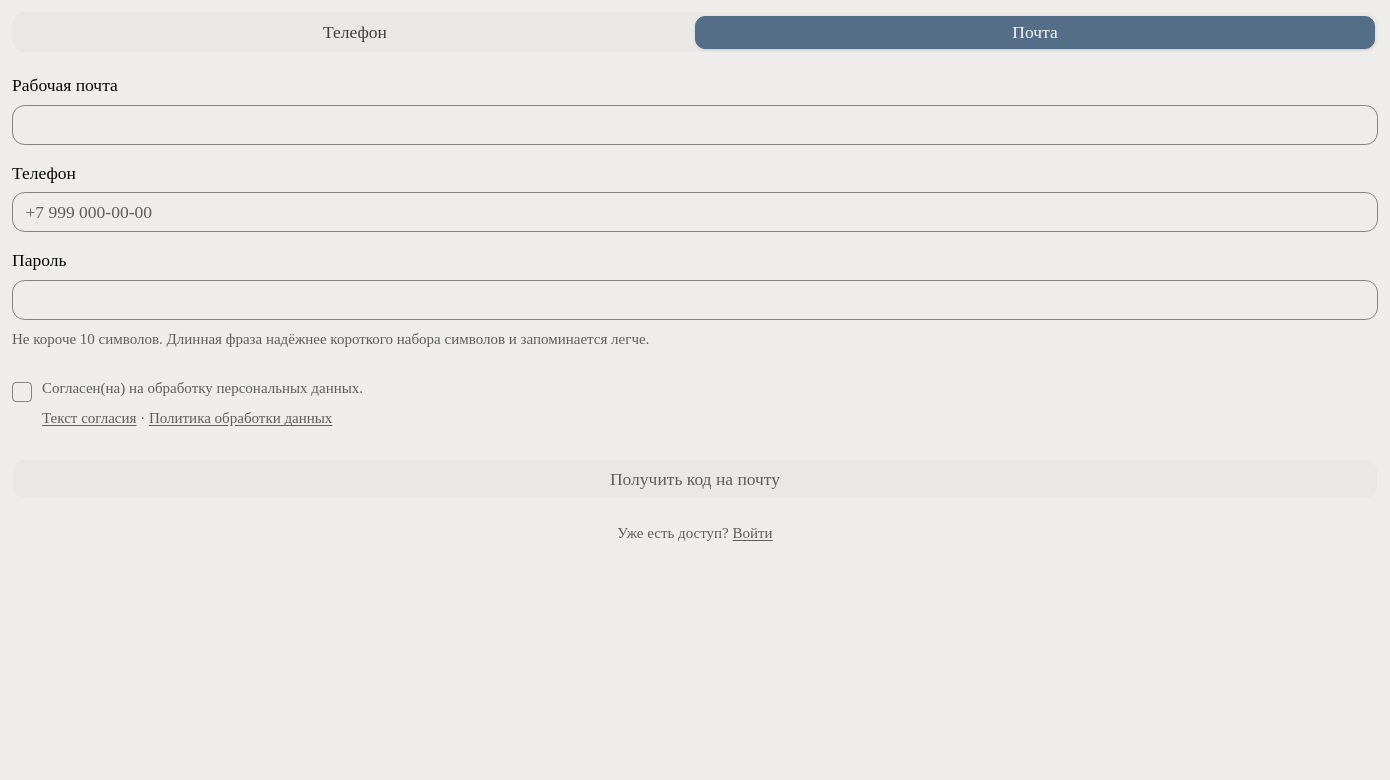
Scenario: вкладка «Почта» — прежняя регистрация по почте › без согласия код не запрашивается — подсвечивается галочка
Type "hr@example.com" into the field labelled "Рабочая почта".
click(695, 124); type("hr@example.com")  # box [12,104,1378,144]
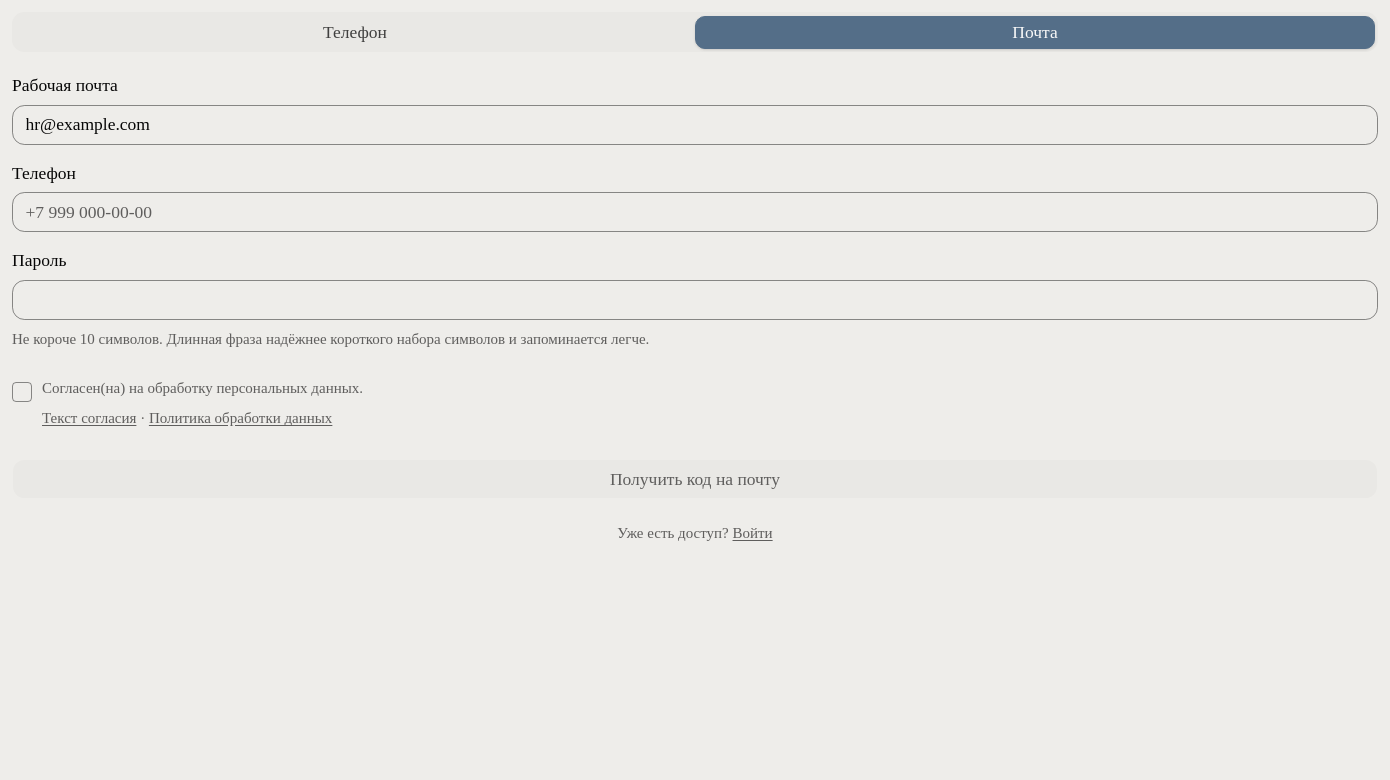
Type "+7 900 123-45-67" into the field labelled "Телефон".
click(695, 212); type("+7 900 123-45-67")  # box [12,192,1378,232]
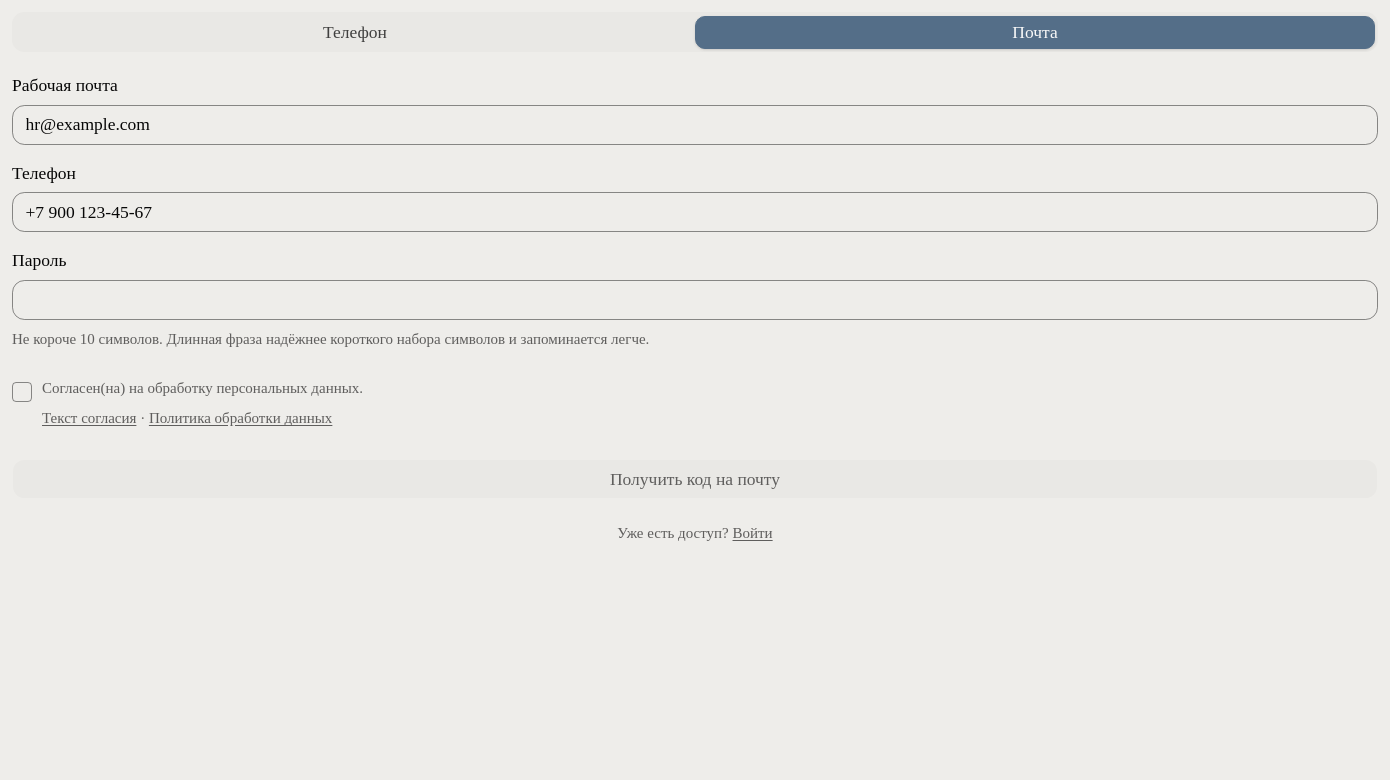
Type "длинный-пароль-1" into the password field labelled "Пароль".
click(695, 300); type("длинный-пароль-1")  # box [12,280,1378,320]
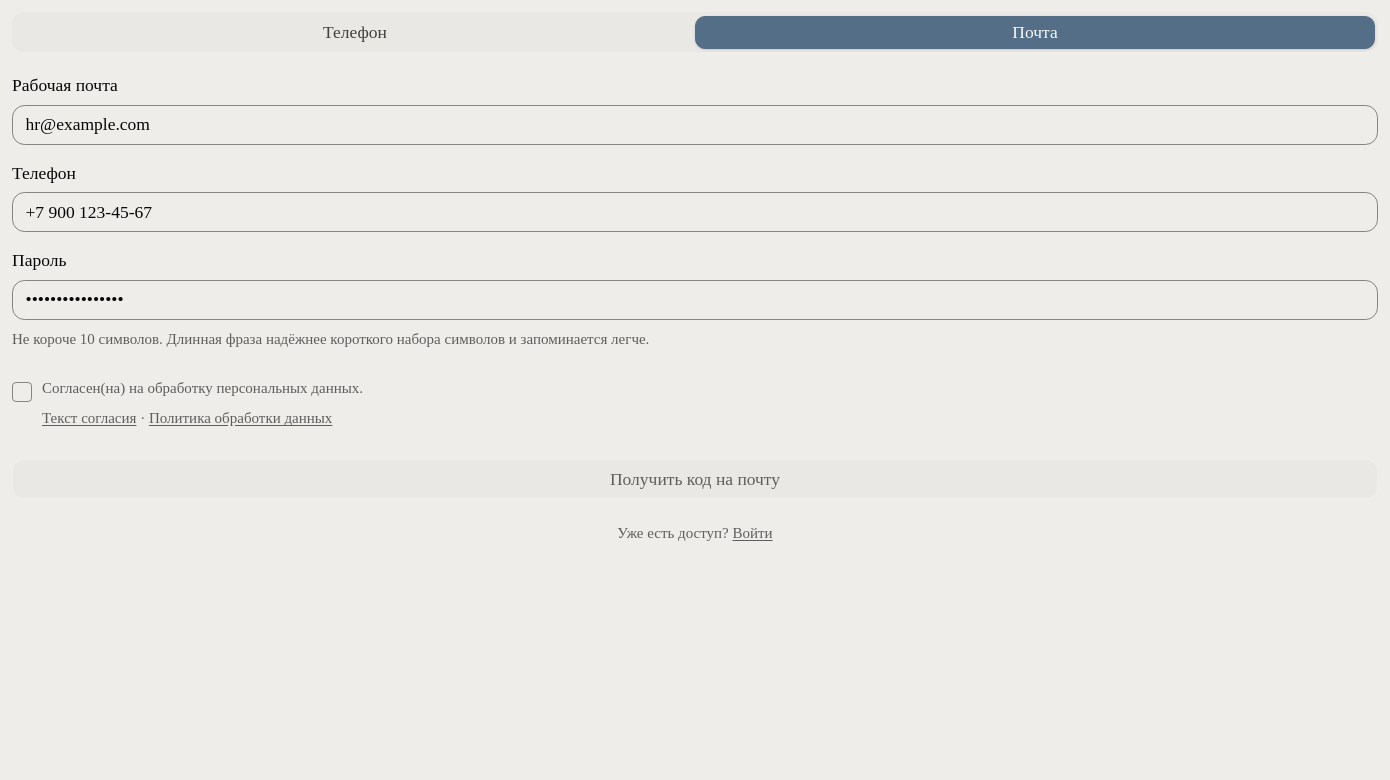
Submit the form named "Получить код на почту", box [12,77,1378,500]
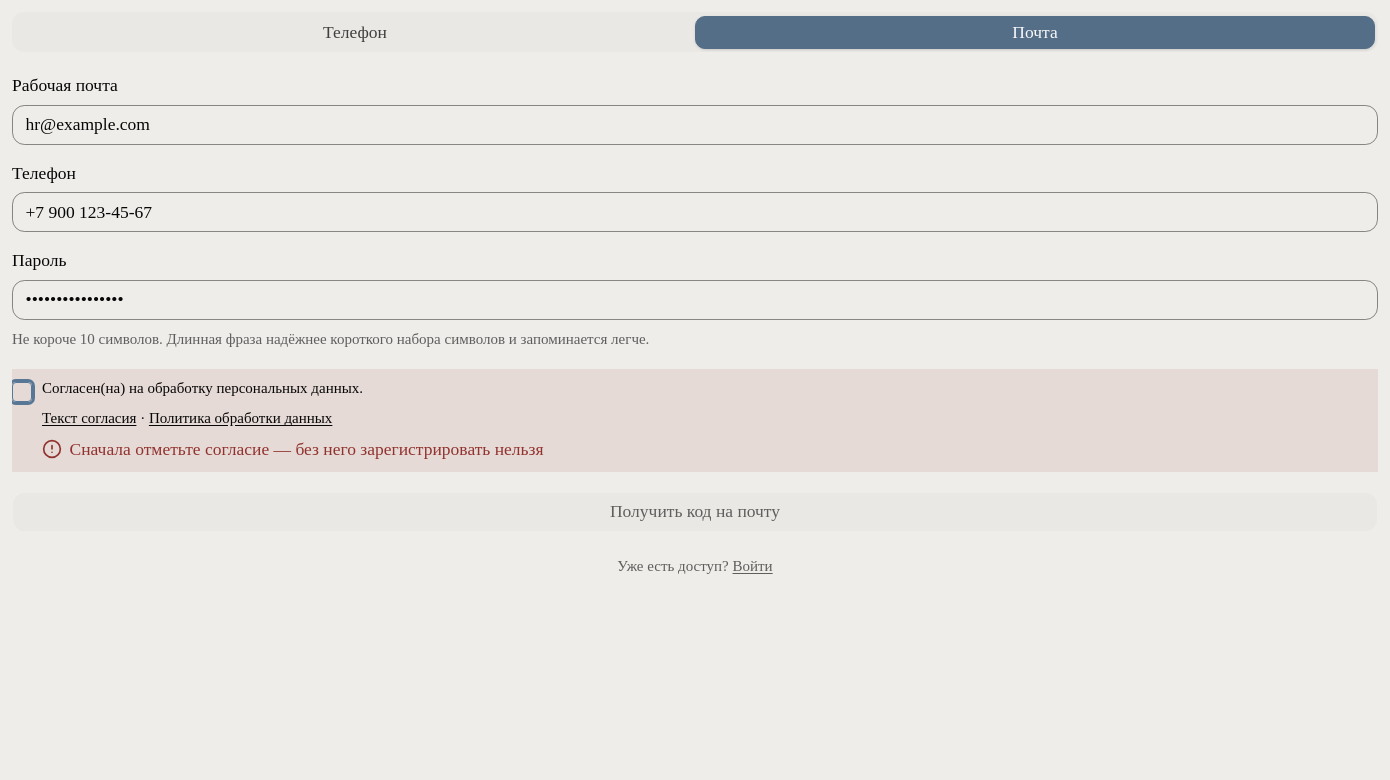
Check: the message shows "Сначала отметьте согласие", box [70,439,544,459]
